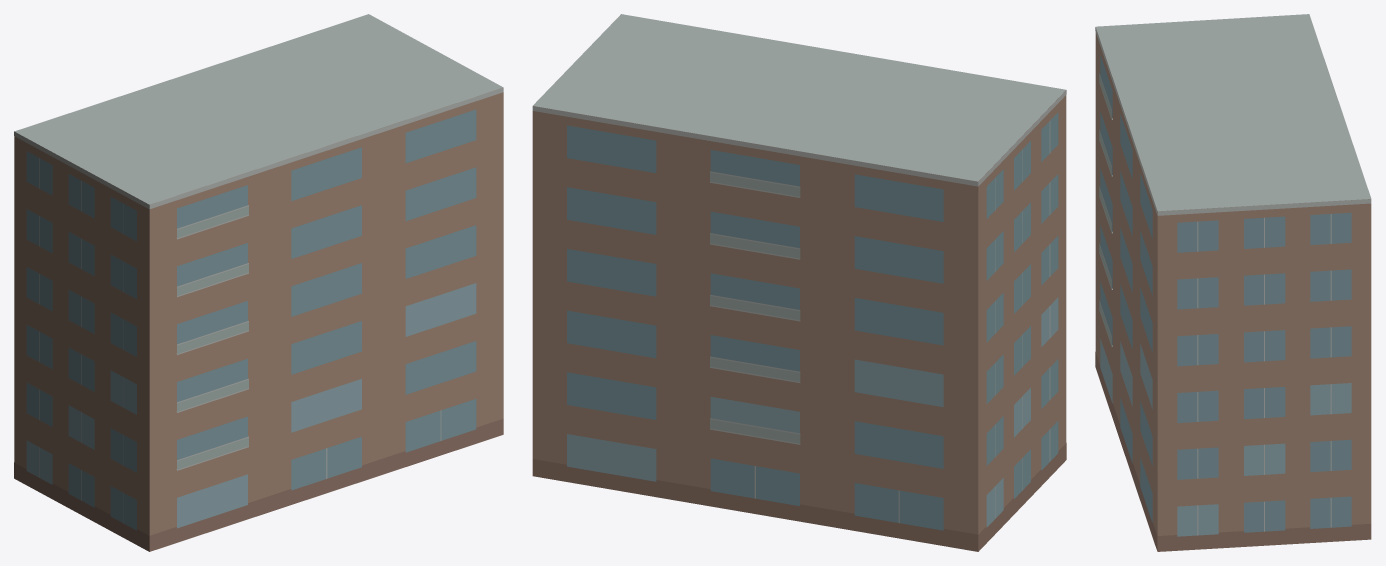
File: survey-upis-32529851.glb
The picture shows the model from 3 angles, left to right: view 1: azimuth 30°, elevation 25°; view 2: azimuth 150°, elevation 25°; view 3: azimuth 270°, elevation 25°; orthographic projection. The views are drawn at different scales.
Parts seen in each view (by area): view 1: survey-upis-32529851.tmp; view 2: survey-upis-32529851.tmp; view 3: survey-upis-32529851.tmp.
Boxes of the visible parts, left/top/right/bottom form: survey-upis-32529851.tmp: left=14, top=14, right=503, bottom=551; survey-upis-32529851.tmp: left=532, top=14, right=1066, bottom=551; survey-upis-32529851.tmp: left=1095, top=14, right=1371, bottom=551.
Size of the model in its own units: 22.75 by 18.3 by 13.45.
